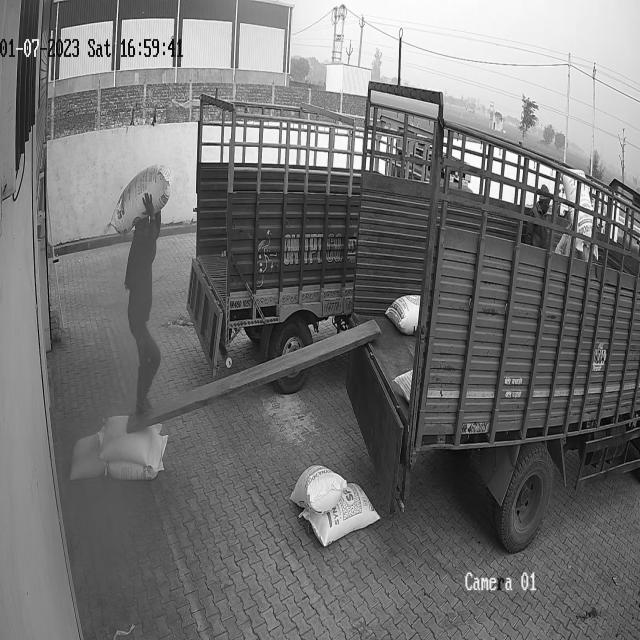sack: (298, 482, 379, 548), (109, 162, 169, 236), (99, 416, 161, 462), (106, 434, 167, 479), (290, 463, 346, 512), (68, 432, 106, 479)
